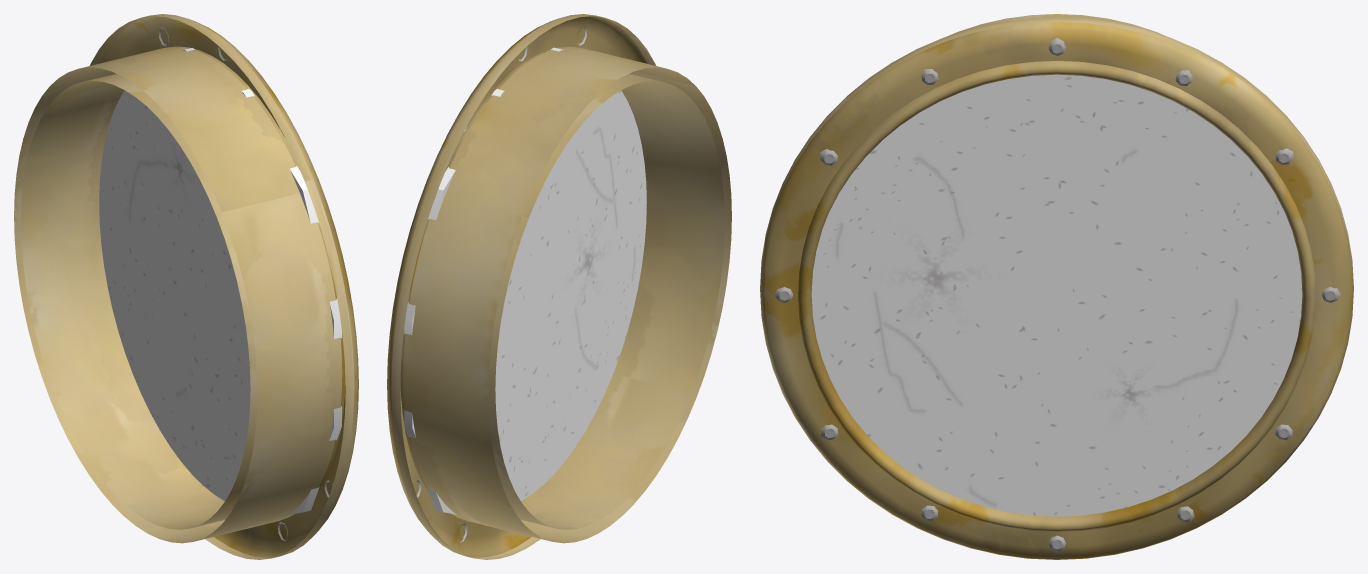
The model's file is Porthole.FBX.
3 views of the same model, side by side, from view 1: azimuth 30°, elevation 25°; view 2: azimuth 150°, elevation 25°; view 3: azimuth 270°, elevation 25° (orthographic). The views are drawn at different scales.
Visible parts, largest first — view 1: Porthole; view 2: Porthole; view 3: Porthole.
Part boxes in pixels (x1,y1,x2,y2): Porthole: (14,14,358,559); Porthole: (387,14,731,559); Porthole: (760,14,1353,559).
Bounding box in the file's own units: 24.93 × 124 × 124.
Materials: 1 (1 with a texture image).
